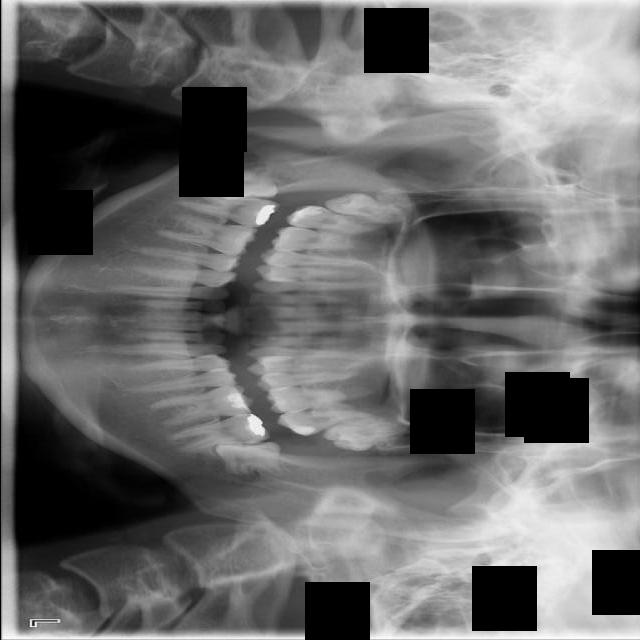3M ESPE Implant: (323, 185, 408, 231)
52: (223, 405, 270, 453), (226, 191, 279, 233), (205, 383, 254, 419), (275, 411, 324, 436), (285, 205, 333, 229)
73: (64, 516, 74, 532)
BioHorizons Implant: (276, 408, 390, 437)
BioLife Implant: (318, 416, 408, 458)
Biomet 3i Implant: (214, 440, 285, 478)
Blue Sky Bio Implant: (164, 409, 269, 457)
Caries: (283, 201, 390, 238)
Implant: (177, 184, 281, 233)
Keystone Dental Implant: (214, 162, 280, 206)
